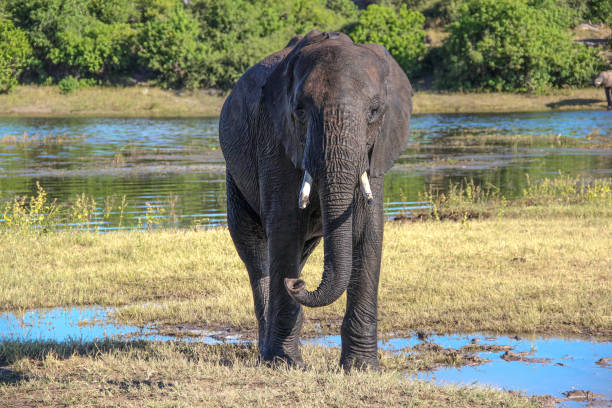africanelephant: (266, 59, 387, 235)
